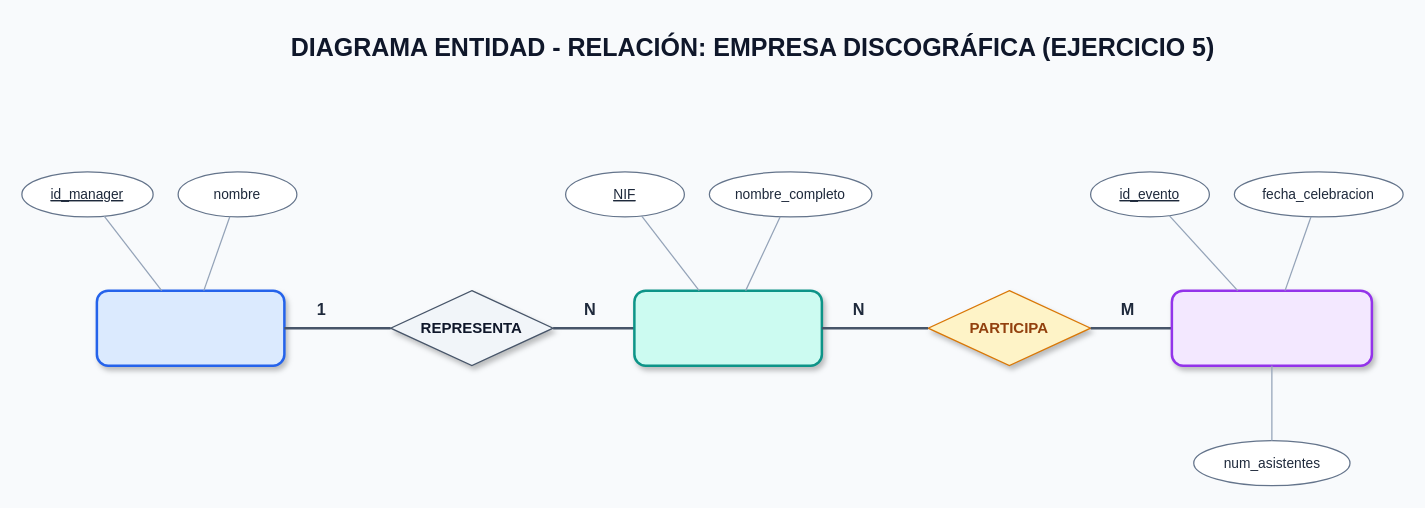
This 1425x508 diagram has some shape labels left out. The shapes that lost their labels are listed below. From the top down, each one's centre as x and y in pixels, then its label:
At point 191,329: "MANAGER".
At point 729,329: "ARTISTA".
At point 1272,329: "EVENTO DE PROMOCIÓN".
